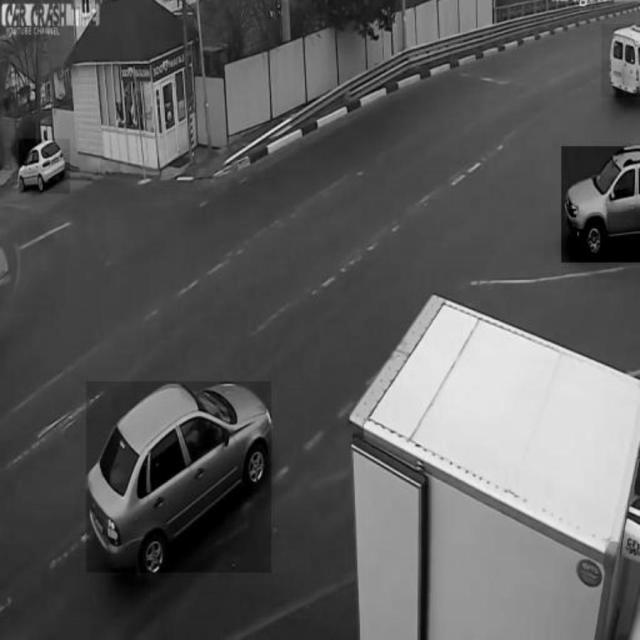vehicle: (86, 382, 271, 572), (562, 146, 640, 262), (601, 24, 640, 97), (19, 140, 70, 195)
